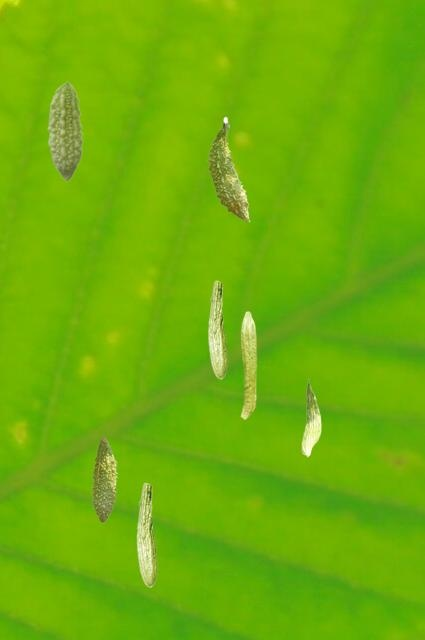ampalaya: (207, 116, 250, 222), (47, 81, 83, 181), (90, 437, 118, 523), (136, 482, 157, 588), (207, 280, 227, 379), (240, 311, 257, 419), (301, 378, 321, 457)
